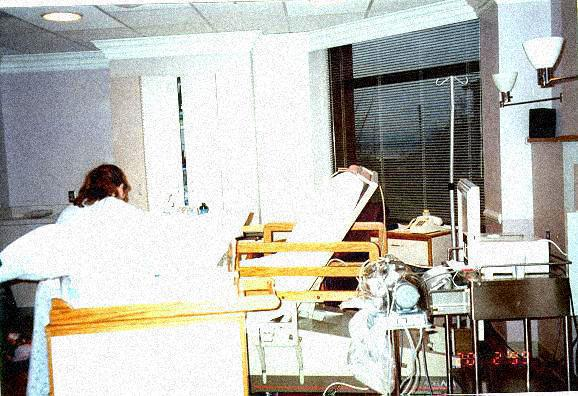Armario: (110, 75, 262, 218)
Otro Obstaculo: (53, 289, 291, 393)
